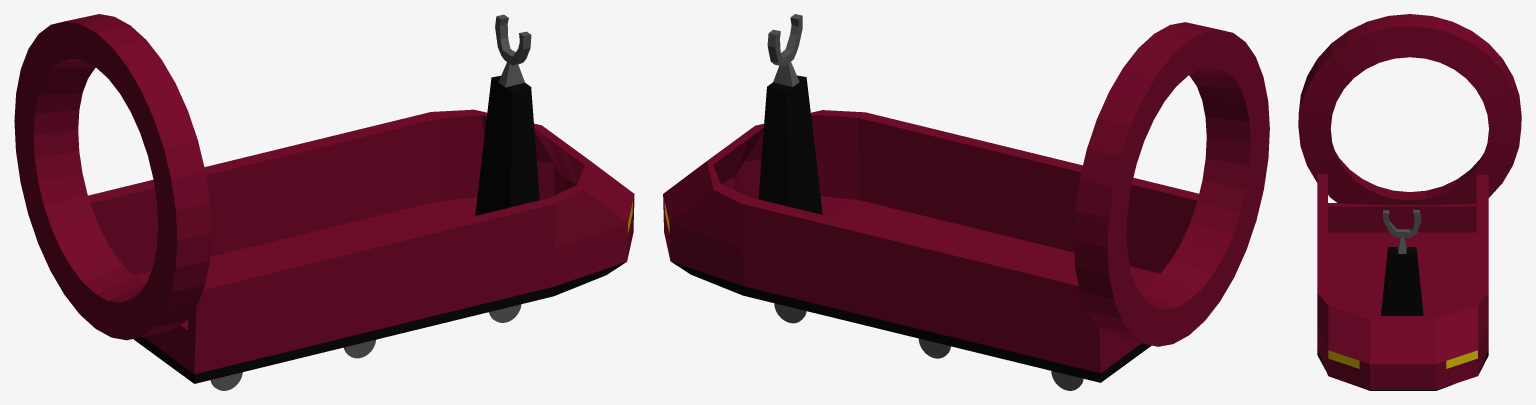
Rendered from Vehiculo_ventilador.fbx.
The picture shows the model from 3 angles, left to right: view 1: azimuth 30°, elevation 25°; view 2: azimuth 150°, elevation 25°; view 3: azimuth 270°, elevation 25°; orthographic projection. The views are drawn at different scales.
Visible parts, largest first — view 1: Cube; view 2: Cube; view 3: Cube.
Boxes of the visible parts, left/top/right/bottom form: Cube: left=14, top=14, right=634, bottom=390; Cube: left=663, top=14, right=1269, bottom=390; Cube: left=1298, top=14, right=1521, bottom=390.
Size of the model in its own units: 1148 by 702 by 637.
